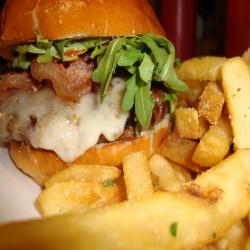burger: (1, 1, 181, 180)
fries: (181, 61, 249, 244)
